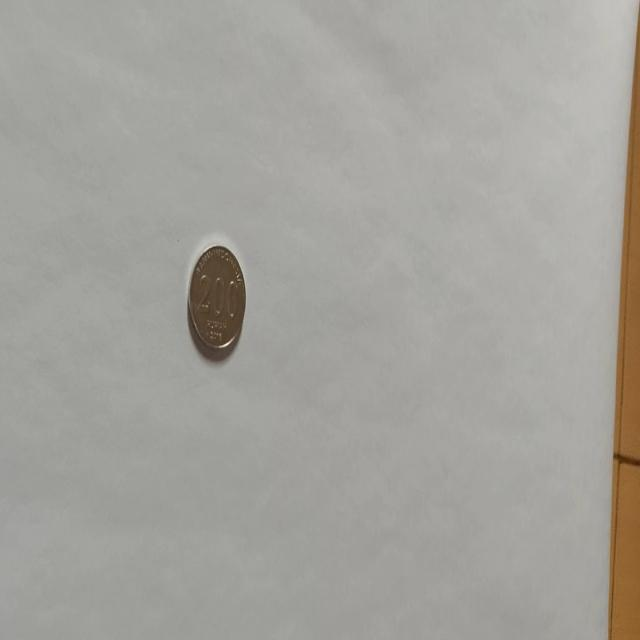dua ratus rupiah: (186, 242, 246, 354)
